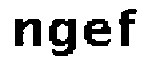e: (80, 18, 110, 49)
f: (116, 7, 140, 50)
g: (49, 14, 80, 60)
n: (11, 15, 44, 50)
